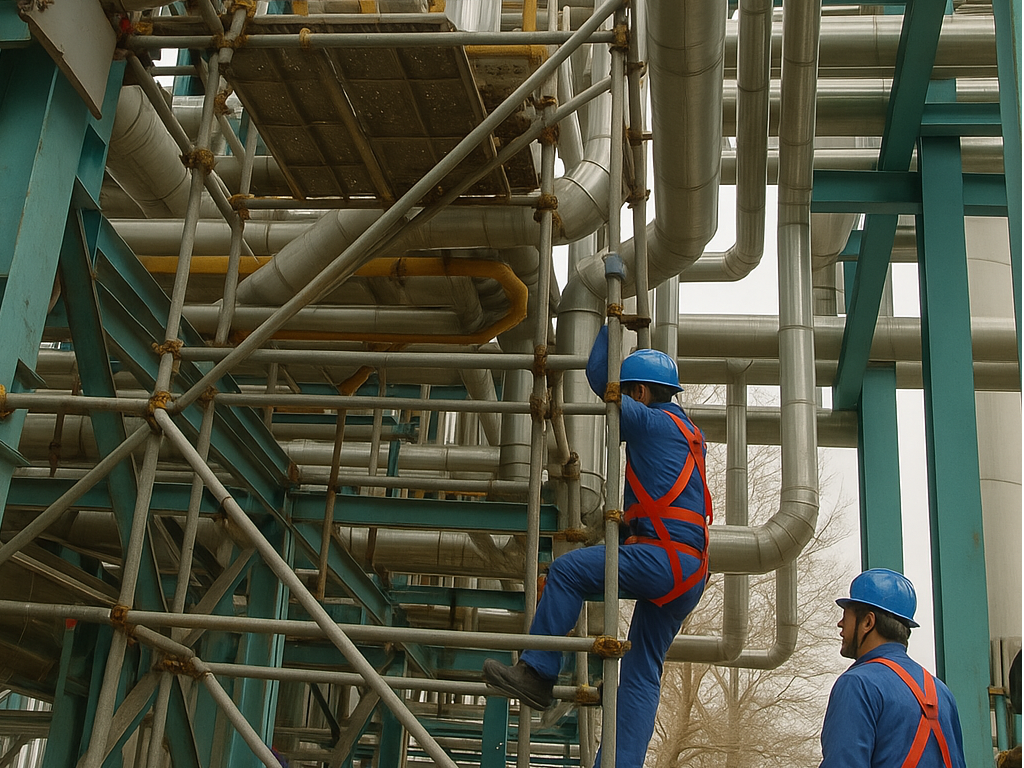safety_belt: (608, 406, 720, 616), (833, 644, 966, 768)
